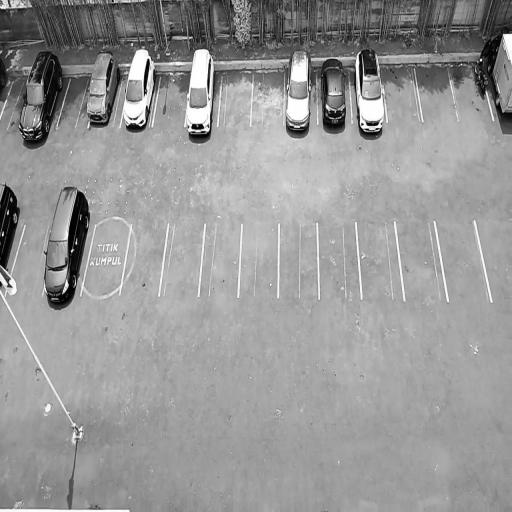Car: (42, 184, 91, 304), (16, 48, 64, 144), (118, 48, 156, 132), (350, 50, 388, 133), (83, 50, 122, 122), (185, 44, 214, 137), (285, 45, 312, 132), (0, 183, 20, 294), (322, 58, 350, 132)
Space Available: (435, 220, 491, 308), (396, 220, 447, 306), (356, 218, 404, 303), (120, 220, 167, 301), (82, 216, 130, 295), (6, 220, 52, 296), (318, 219, 361, 300), (159, 220, 204, 297), (199, 218, 242, 296), (279, 218, 318, 300), (238, 220, 277, 300), (416, 64, 459, 129), (382, 65, 423, 129), (153, 72, 189, 125), (218, 73, 252, 127), (252, 73, 283, 129), (56, 76, 88, 129), (0, 74, 29, 127)
